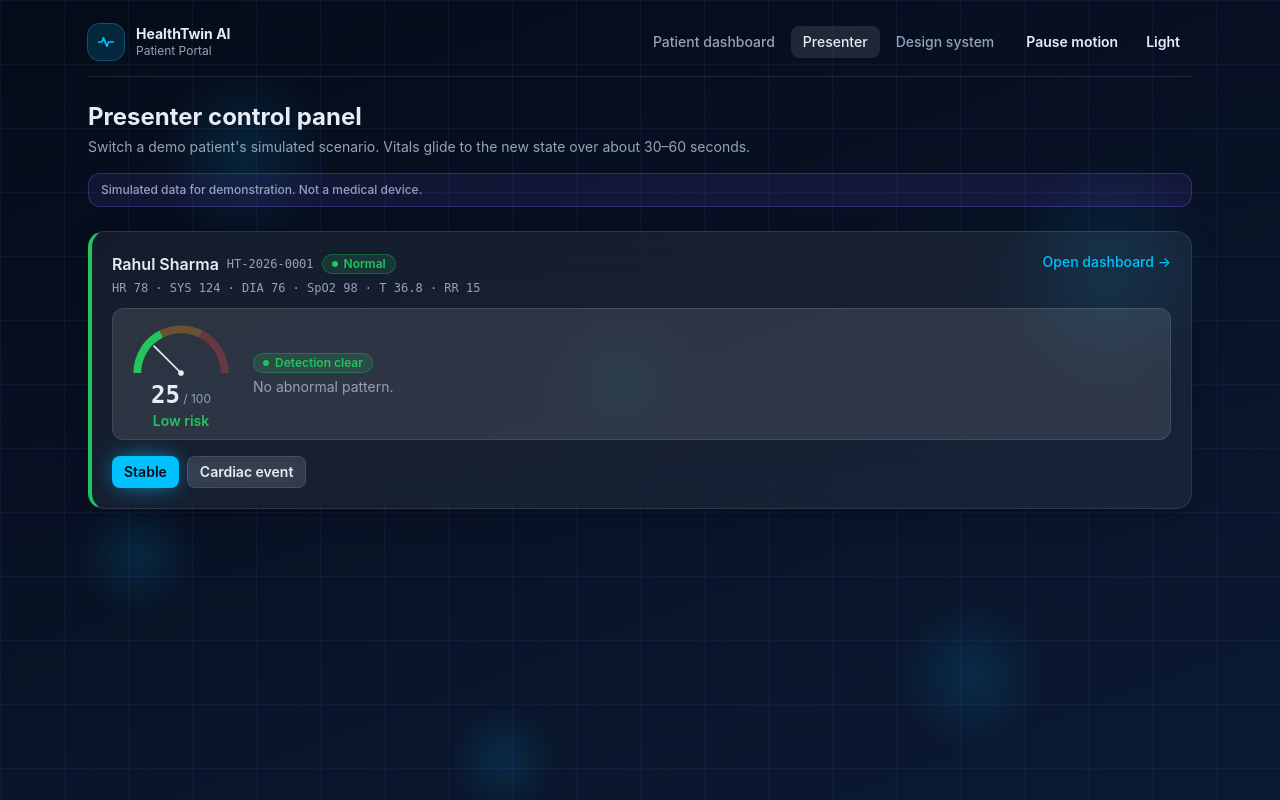
Presenter panel access (central admin by login) › shows the error when a switch fails and never asks for a key
Click the button "Cardiac event": (247,472) x1=187 y1=456 x2=306 y2=488
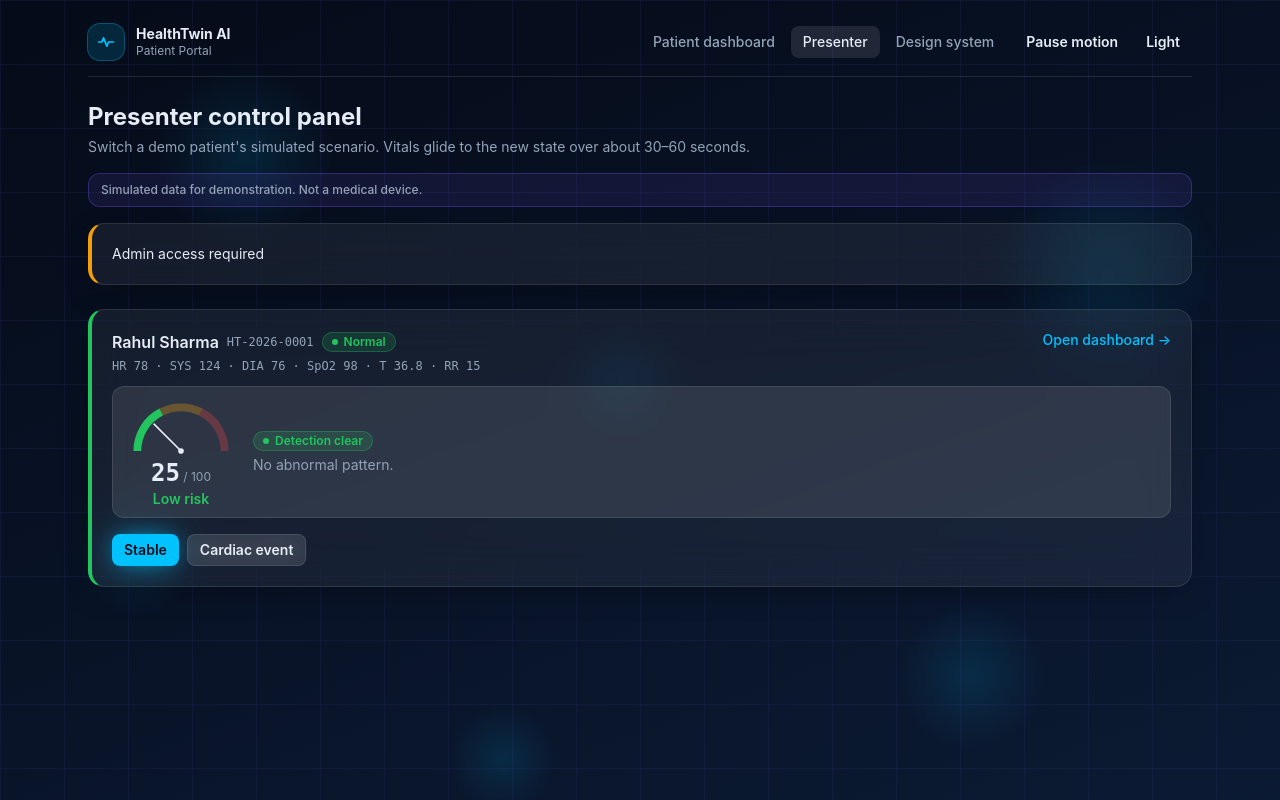
Expected: the text "Admin access required" is shown, x1=112 y1=245 x2=264 y2=262
